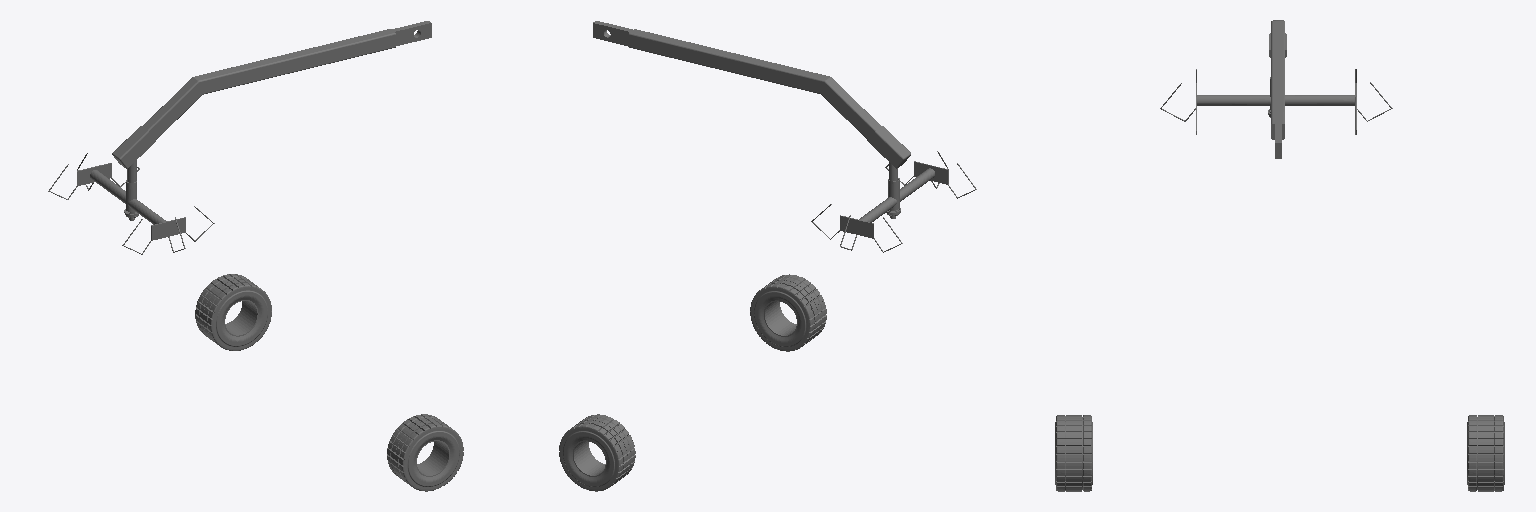
robot.urdf — hoyer_sling:
<?xml version="1.0"?>
<robot name="hoyer_sling">



  <!-- Base Link -->
  <link name="base">
    <inertial>
      <origin xyz="0 0 0" rpy="0 0 0"/>  <!-- Keep inertial origin neutral -->
      <mass value="5.0"/>  
      <inertia ixx="0.5" ixy="0.0" ixz="0.0" iyy="0.5" iyz="0.0" izz="0.5"/>  
    </inertial>
    <visual>  
      <origin xyz="-0.9 0.644 0" rpy="1.57 0 0"/>  <!-- Apply rotation to visual -->
      <geometry>
        <mesh filename="package://hoyer_sling_urdf/meshes/hoyer_lift_agent_urdf/base.STL" scale="0.001 0.001 0.001"/>
      </geometry>
      <material name="grey">
	      <color rgba="0.5 0.5 0.5 1.0"/>
      </material>
    </visual>
    <collision>
      <origin xyz="-0.9 0.644 0" rpy="1.57 0 0"/>  <!-- Apply rotation to collision geometry if necessary -->
      <geometry>
        <mesh filename="package://hoyer_sling_urdf/meshes/hoyer_lift_agent_urdf/base.STL" scale="0.001 0.001 0.001"/>
      </geometry>
    </collision>
  </link>

  <!-- Lift Link -->
    <link name="lift">
    <inertial>
      <origin xyz="0 0 0" rpy="-1.57 0 0"/>
      <mass value="10.0"/>  
      <inertia ixx="1.0" ixy="0.0" ixz="0.0" iyy="1.0" iyz="0.0" izz="1.0"/>  <!-- 设置惯性矩 -->
    </inertial>
    <visual>
      <origin xyz="0.05 -0.019 -0.2" rpy="1.57 0 3.14159"/>  <!-- Apply rotation to visual -->
      <geometry>
        <mesh filename="package://hoyer_sling_urdf/meshes/hoyer_lift_agent_urdf/lift.STL" scale="0.001 0.001 0.001"/>
      </geometry>
      <material name="grey">
    <color rgba="0.5 0.5 0.5 1.0"/>
      </material>
    </visual>
    <collision>
    <origin xyz="0.05 -0.019 -0.2" rpy="1.57 0 3.14159"/>   <!-- Apply rotation to collision geometry if necessary -->
      <geometry>
        <mesh filename="package://hoyer_sling_urdf/meshes/hoyer_lift_agent_urdf/lift.STL" scale="0.001 0.001 0.001"/>
      </geometry>
    </collision>
  </link>

  <!-- pitch_frame Link -->
  <link name="pitch_frame">
    <inertial>
      <origin xyz="0 0 0" rpy="0 0 0"/>
      <mass value="10.0"/>  
      <inertia ixx="1.0" ixy="0.0" ixz="0.0" iyy="0.0" iyz="0.0" izz="0.0"/>  <!-- 设置惯性矩 -->
    </inertial>
    <visual>
      <origin xyz="-0.025 0.025 -0.2225" rpy="1.57 0 0"/>  <!-- Apply rotation to visual -->
      <geometry>
        <mesh filename="package://hoyer_sling_urdf/meshes/hoyer_lift_agent_urdf/inner.STL" scale="0.001 0.001 0.001"/>
      </geometry>
      <material name="grey">
	  <color rgba="0.5 0.5 0.5 1.0"/>
      </material>
    </visual>
    <collision>
      <origin xyz="--0.025 0.025 -0.2225" rpy="1.57 0 0"/>  <!-- Apply rotation to collision geometry if necessary -->
      <geometry>
        <mesh filename="package://hoyer_sling_urdf/meshes/hoyer_lift_agent_urdf/inner.STL" scale="0.001 0.001 0.001"/>
      </geometry>
    </collision>
  </link>

  <!-- frame Link -->
  <link name="frame">
    <inertial>
      <origin xyz="0 0 0" rpy="0 0 0"/>
      <mass value="10.0"/>  
      <inertia ixx="1.0" ixy="0.0" ixz="0.0" iyy="1.0" iyz="0.0" izz="1.0"/>  <!-- 设置惯性矩 -->
    </inertial>
    <visual>
      <origin xyz="0.158 -0.328 -0.055" rpy="1.57 0 3.1415"/>  <!-- Apply rotation to visual -->
      <geometry>
        <mesh filename="package://hoyer_sling_urdf/meshes/hoyer_lift_agent_urdf/outer.STL" scale="0.001 0.001 0.001"/>
      </geometry>
      <material name="grey">
	  <color rgba="0.5 0.5 0.5 1.0"/>
      </material>
    </visual>
    <collision>
      <origin xyz="-0.17 0.32 -0.05" rpy="1.57 0 3,1415"/>  <!-- Apply rotation to collision geometry if necessary -->
      <geometry>
        <mesh filename="package://hoyer_sling_urdf/meshes/hoyer_lift_agent_urdf/outer.STL" scale="0.001 0.001 0.001"/>
      </geometry>
    </collision>
  </link>

  <!-- Left Wheel Link -->
  <link name="left_wheel">
    <inertial>
      <origin xyz="0 0 0" rpy="0 0 0"/>
      <mass value="10.0"/>  
      <inertia ixx="1.0" ixy="0.0" ixz="0.0" iyy="1.0" iyz="0.0" izz="1.0"/>  <!-- 设置惯性矩 -->
    </inertial>
    <visual>
      <origin xyz="-0.1075 0.0525 -0.1075" rpy="1.5708 0 0"/>  <!-- Apply rotation to visual -->
      <geometry>
        <mesh filename="package://hoyer_sling_urdf/meshes/hoyer_lift_agent_urdf/wheel.STL" scale="0.001 0.001 0.001"/>
      </geometry>
      <material name="grey">
	  <color rgba="0.5 0.5 0.5 1.0"/>
      </material>
    </visual>
    <collision>
      <origin xyz="-0.1075 0.0525 -0.1075" rpy="1.5708 0 0"/>  <!-- Apply rotation to collision geometry if necessary -->
      <geometry>
        <mesh filename="package://hoyer_sling_urdf/meshes/hoyer_lift_agent_urdf/wheel.STL" scale="0.001 0.001 0.001"/>
      </geometry>
    </collision>
  </link>

  <!-- Right Wheel Link -->
  <link name="right_wheel">
    <inertial>
      <origin xyz="0 0 0" rpy="0 0 0"/>
      <mass value="10.0"/>  
      <inertia ixx="1.0" ixy="0.0" ixz="0.0" iyy="1.0" iyz="0.0" izz="1.0"/>  <!-- 设置惯性矩 -->
    </inertial>
    <visual>
      <origin xyz="-0.1075 0.0525 -0.1075" rpy="1.5708 0 0"/>  <!-- Apply rotation to visual -->
      <geometry>
        <mesh filename="package://hoyer_sling_urdf/meshes/hoyer_lift_agent_urdf/wheel.STL" scale="0.001 0.001 0.001"/>
      </geometry>
      <material name="grey">
	  <color rgba="0.5 0.5 0.5 1.0"/>
      </material>
    </visual>
    <collision>
      <origin xyz="-0.1075 0.0525 -0.1075" rpy="1.5708 0 0"/>  <!-- Apply rotation to collision geometry if necessary -->
      <geometry>
        <mesh filename="package://hoyer_sling_urdf/meshes/hoyer_lift_agent_urdf/wheel.STL" scale="0.001 0.001 0.001"/>
      </geometry>
    </collision>
  </link>


  <!-- Joint between base and lift -->
  <joint name="base_to_lift" type="continuous">
    <parent link="base"/>
    <child link="lift"/>
    <origin xyz="0.325 0.0 1.2" rpy="0 0 0"/>
    <axis xyz="0 1 0"/>  
    <limit effort="50.0" velocity="1.0"/>  
  </joint>
  
  <!-- Joint between base and left wheel -->
  <joint name="base_to_left_wheel" type="continuous">
    <parent link="base"/>
    <child link="left_wheel"/>
    <origin xyz="0.026 -0.57 0.1075" rpy="0 0 0"/>
    <axis xyz="0 1 0"/>  
    <limit effort="50.0" velocity="1.0"/>  
  </joint>
  
  <!-- Joint between base and right wheel -->
  <joint name="base_to_right_wheel" type="continuous">
    <parent link="base"/>
    <child link="right_wheel"/>
    <origin xyz="0.026 0.592 0.1075" rpy="0 0 0"/>
    <axis xyz="0 1 0"/>  
    <limit effort="50.0" velocity="1.0"/>  
  </joint>

  <!-- Joint between life and pitch_frame -->
  <joint name="lift_to_pf" type="continuous">
    <parent link="lift"/>
    <child link="pitch_frame"/>
    <origin xyz="-0.995 0.0 -0.1575" rpy="0 0 0"/>
    <axis xyz="0 1 0"/>  
    <limit effort="50.0" velocity="1.0"/>  
  </joint>

  <!-- Joint between pitch_frame and frame -->
  <joint name="pf_to_frame" type="continuous">
    <parent link="pitch_frame"/>
    <child link="frame"/>
    <origin xyz="0 0.0 -0.175" rpy="0 0 0"/>
    <axis xyz="0 0 1"/>  
    <limit effort="50.0" velocity="1.0"/>  
  </joint>
</robot>

--- What the picture shows (computed from the rendered views, not written in the file) ---
3 views of the same robot in one strip: view 1: azimuth 30°, elevation 25°; view 2: azimuth 150°, elevation 25°; view 3: azimuth 270°, elevation 25° (orthographic).
Robot: hoyer_sling — 6 links, 5 joints (5 continuous); root link base; default pose: all joints at 0.
Visible links, largest first — view 1: lift, left_wheel, right_wheel, frame; view 2: lift, left_wheel, right_wheel, frame; view 3: left_wheel, right_wheel, frame, lift.
Boxes of the visible links, x1,y1,x2,y2 form: lift: (112,21,431,168); left_wheel: (387,414,463,491); right_wheel: (195,274,271,350); frame: (48,153,214,254); lift: (593,21,910,168); left_wheel: (750,274,826,351); right_wheel: (559,414,635,491); frame: (811,151,976,252); left_wheel: (1055,415,1092,491); right_wheel: (1467,415,1504,491); frame: (1160,69,1392,134); lift: (1269,20,1286,158).
Bounding box of the posed robot: 1.21 × 1.27 × 1.24 m (x, y, z).
Meshes: 5 distinct files referenced, 5 mesh visuals loaded (4 binary STL); not drawn: 1 (reference not matched to a file when rendering).
